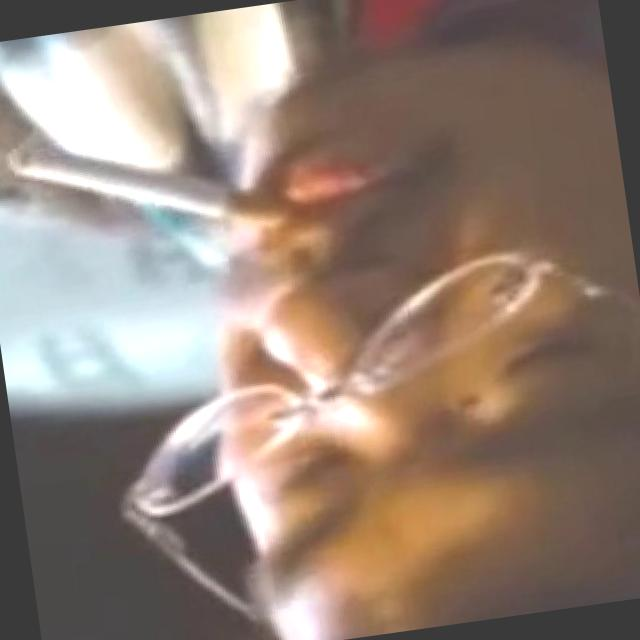cigarette: (0, 95, 301, 271)
